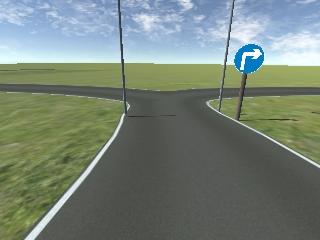right: (234, 44, 264, 74)
